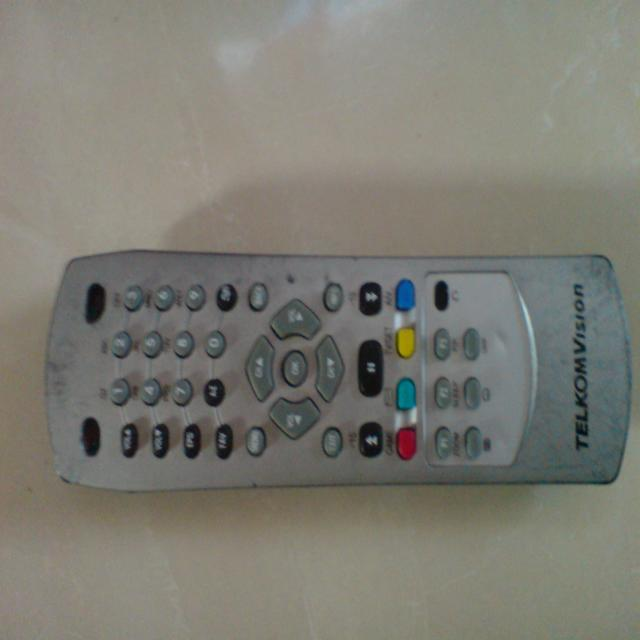remote: (38, 254, 633, 500)
